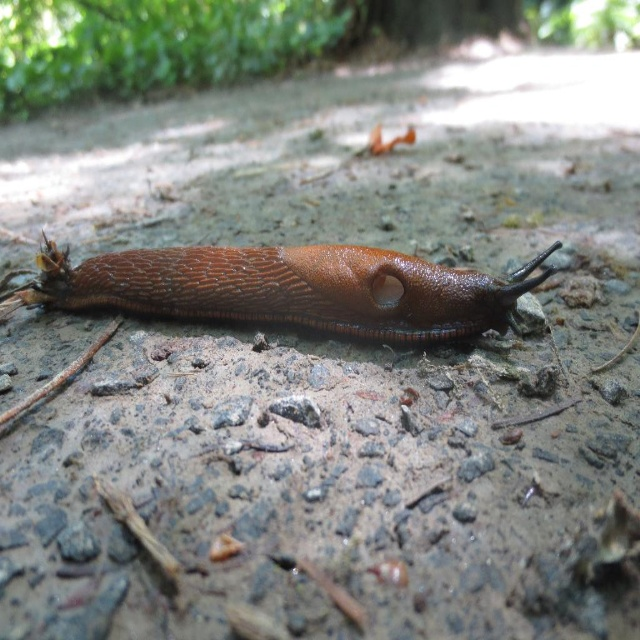Snail: (0, 228, 562, 345)
